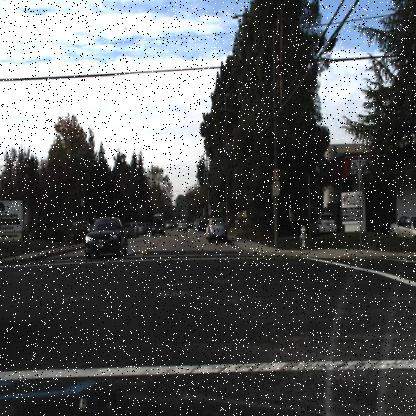car: (81, 210, 131, 264), (387, 208, 415, 248), (202, 214, 229, 245), (312, 207, 339, 238), (63, 212, 93, 233), (147, 212, 167, 238), (70, 215, 96, 234), (174, 216, 189, 236), (125, 218, 137, 238)
